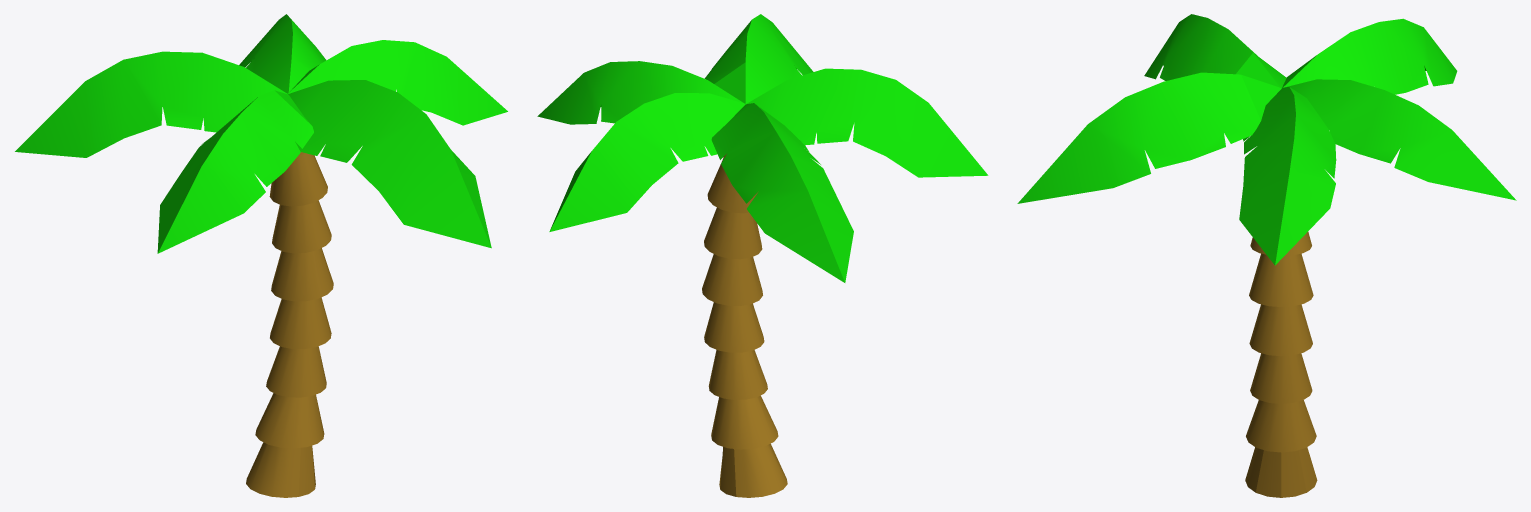
The model's file is palm_tree.fbx.
3 views of the same model, side by side, from view 1: azimuth 30°, elevation 25°; view 2: azimuth 150°, elevation 25°; view 3: azimuth 270°, elevation 25° (orthographic). The views are drawn at different scales.
Parts seen in each view (by area): view 1: Cube; view 2: Cube; view 3: Cube.
Part boxes in pixels (box(x1,y1,x2,y2)): Cube: box(15, 14, 507, 497); Cube: box(537, 14, 988, 497); Cube: box(1017, 14, 1516, 497).
Size of the model in its own units: 1772 by 1766 by 1848.
